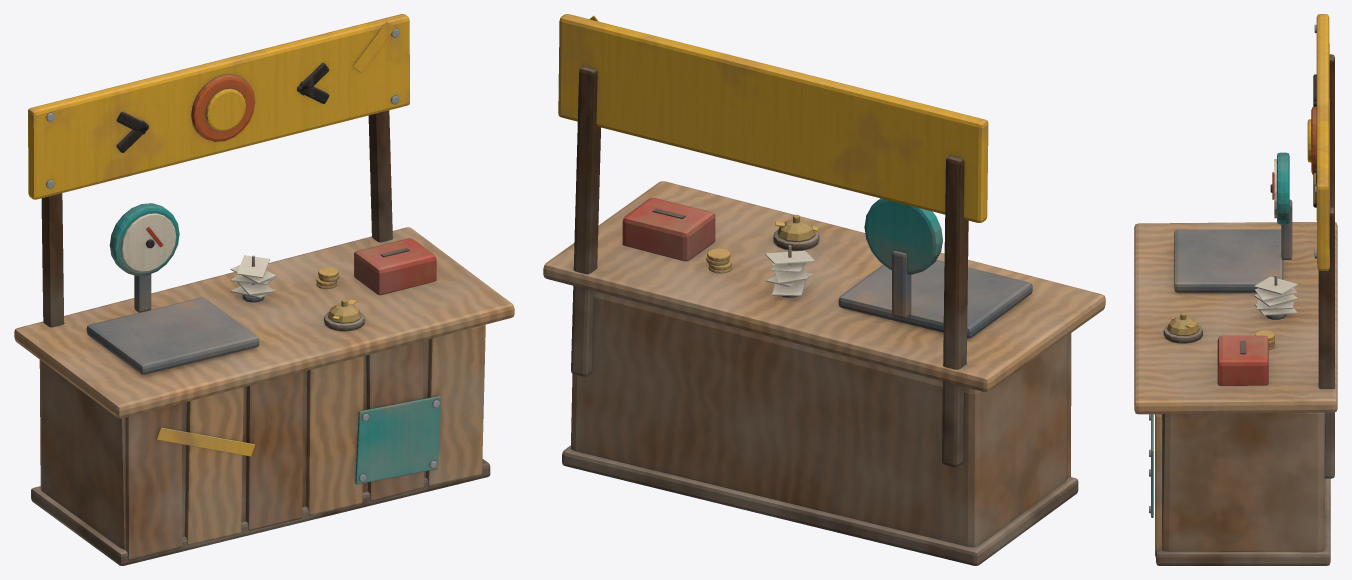
File: sell_counter.glb
3 renders of one model, left to right at view 1: azimuth 30°, elevation 25°; view 2: azimuth 150°, elevation 25°; view 3: azimuth 270°, elevation 25°, orthographic. The views are drawn at different scales.
Parts seen in each view (by area): view 1: SellCounter_Mesh; view 2: SellCounter_Mesh; view 3: SellCounter_Mesh.
Boxes of the visible parts, x1,y1,x2,y2 form: SellCounter_Mesh: (14,14,514,565); SellCounter_Mesh: (543,14,1105,565); SellCounter_Mesh: (1134,14,1337,565).
Bounding box in the file's own units: 2.42 × 2.35 × 1.12.
Materials: 1 (1 with a texture image).
